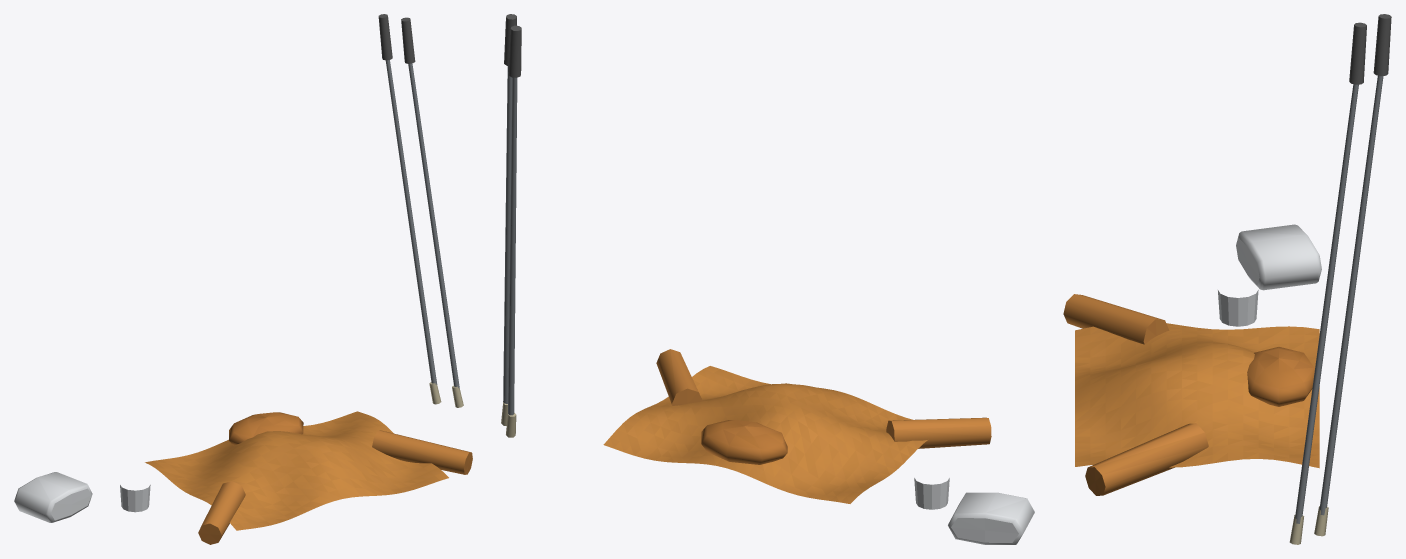
Rendered from cabin_hiker_gear_a.glb.
The picture shows the model from 3 angles, left to right: view 1: azimuth 30°, elevation 25°; view 2: azimuth 150°, elevation 25°; view 3: azimuth 270°, elevation 25°; orthographic projection. The views are drawn at different scales.
Parts seen in each view (by area): view 1: body; view 2: body; view 3: body.
Part boxes in pixels (left/top/right/bottom): body: left=14, top=14, right=472, bottom=544; body: left=501, top=14, right=1034, bottom=544; body: left=1063, top=14, right=1391, bottom=544.
Size of the model in its own units: 1.69 by 1.35 by 0.8042.
